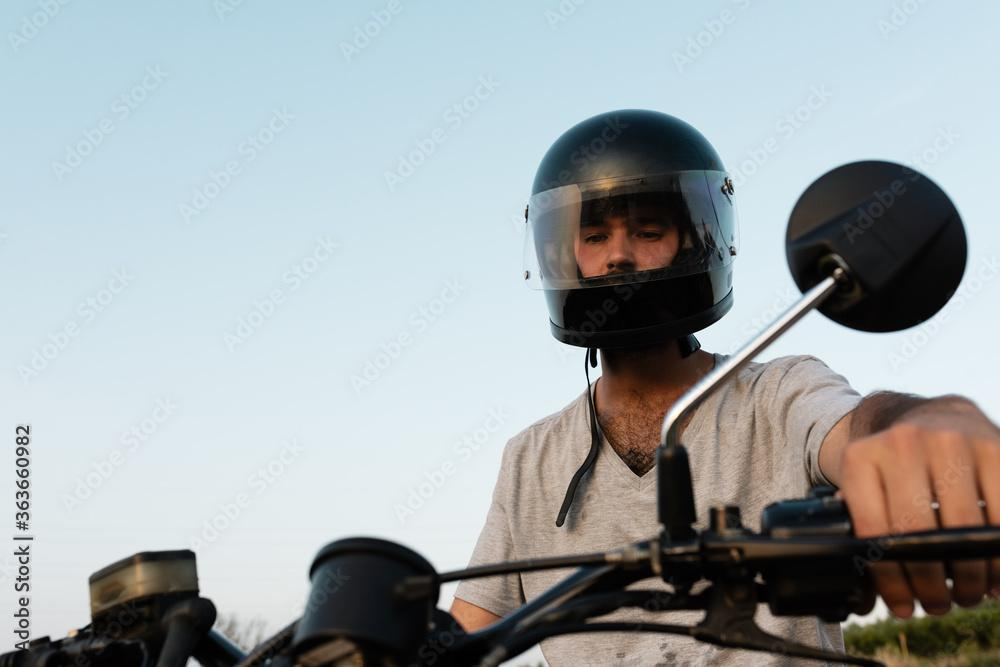helmet: (521, 107, 741, 369)
